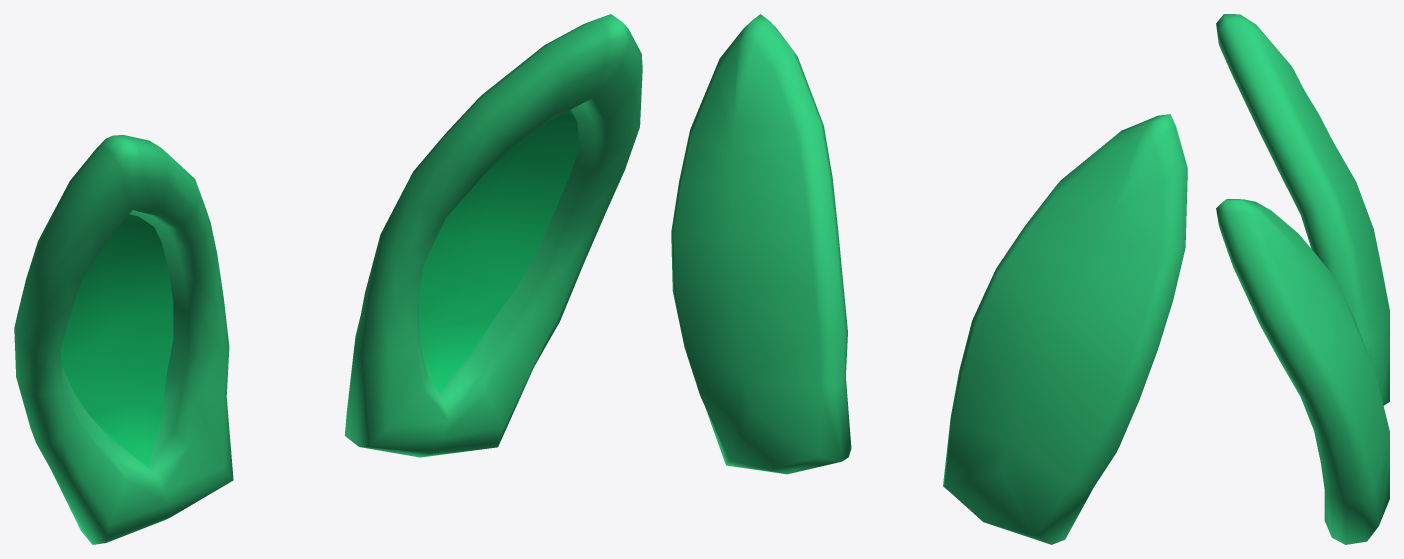
Rendered from Hat_65_03.fbx.
The picture shows the model from 3 angles, left to right: view 1: azimuth 30°, elevation 25°; view 2: azimuth 150°, elevation 25°; view 3: azimuth 270°, elevation 25°; orthographic projection. The views are drawn at different scales.
Parts seen in each view (by area): view 1: Hat_65_03; view 2: Hat_65_03; view 3: Hat_65_03.
Part boxes in pixels (x1,y1,x2,y2): Hat_65_03: [14, 14, 642, 544]; Hat_65_03: [671, 14, 1187, 544]; Hat_65_03: [1216, 14, 1389, 544].
Bounding box in the file's own units: 33.47 × 25.32 × 11.02.
